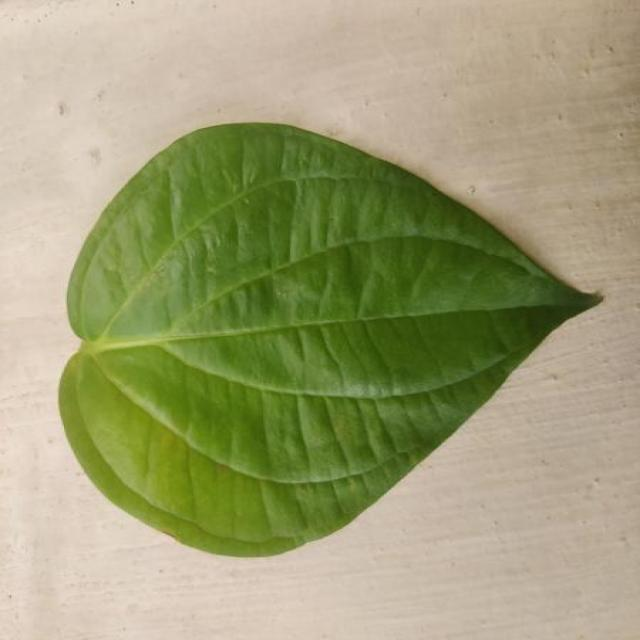betel: (60, 124, 600, 556)
